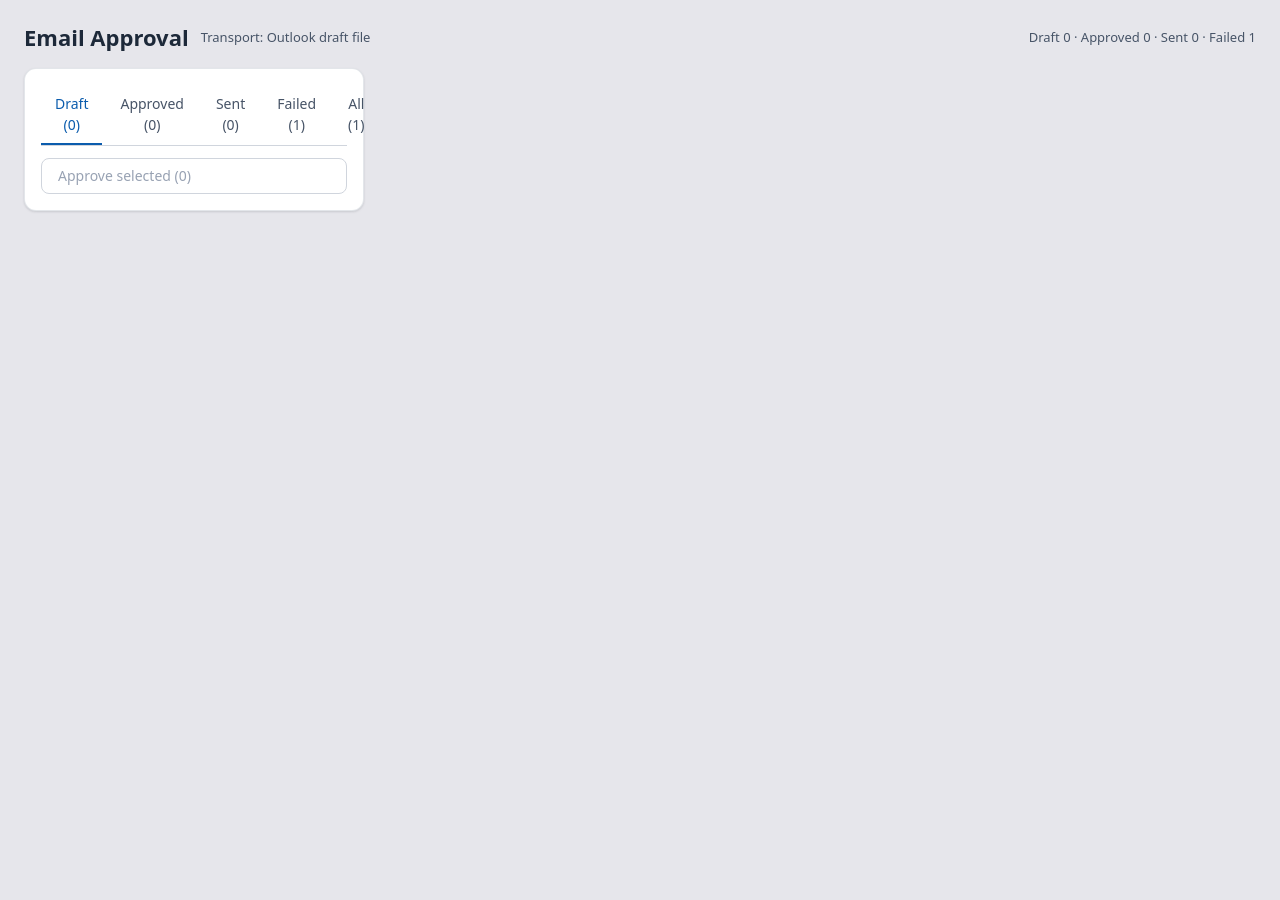
Test case: EmailApprovalPage transport handoff › confirms an uncertain previous COM send before opening a new draft
The width and height of the screenshot is (1280, 900).
Later steps or results of the test are not shown.
Click the tab "Failed (1)".
click(297, 114)  # box [263,84,330,144]
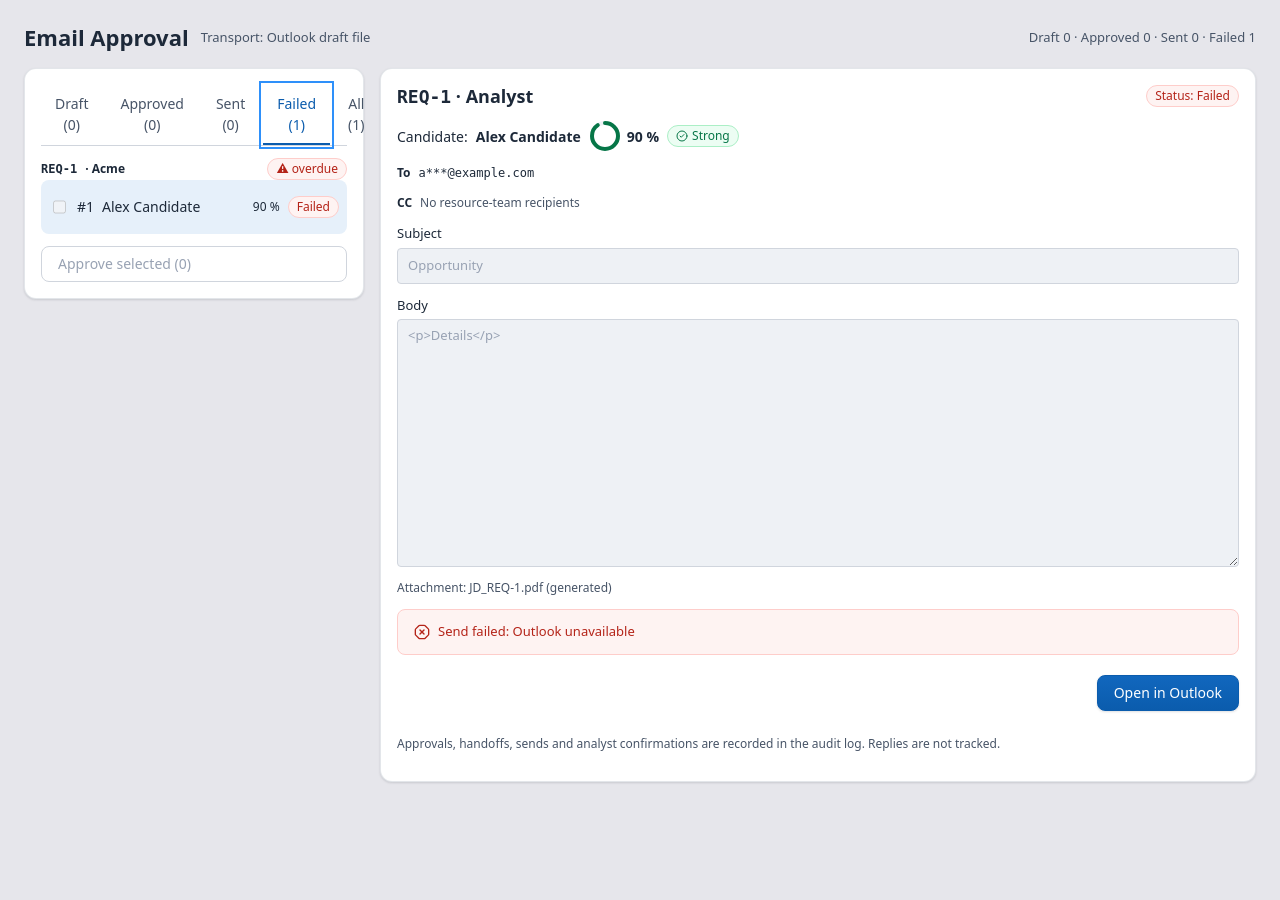
Click the button "Open in Outlook".
click(1168, 692)  # box [1097,674,1239,710]
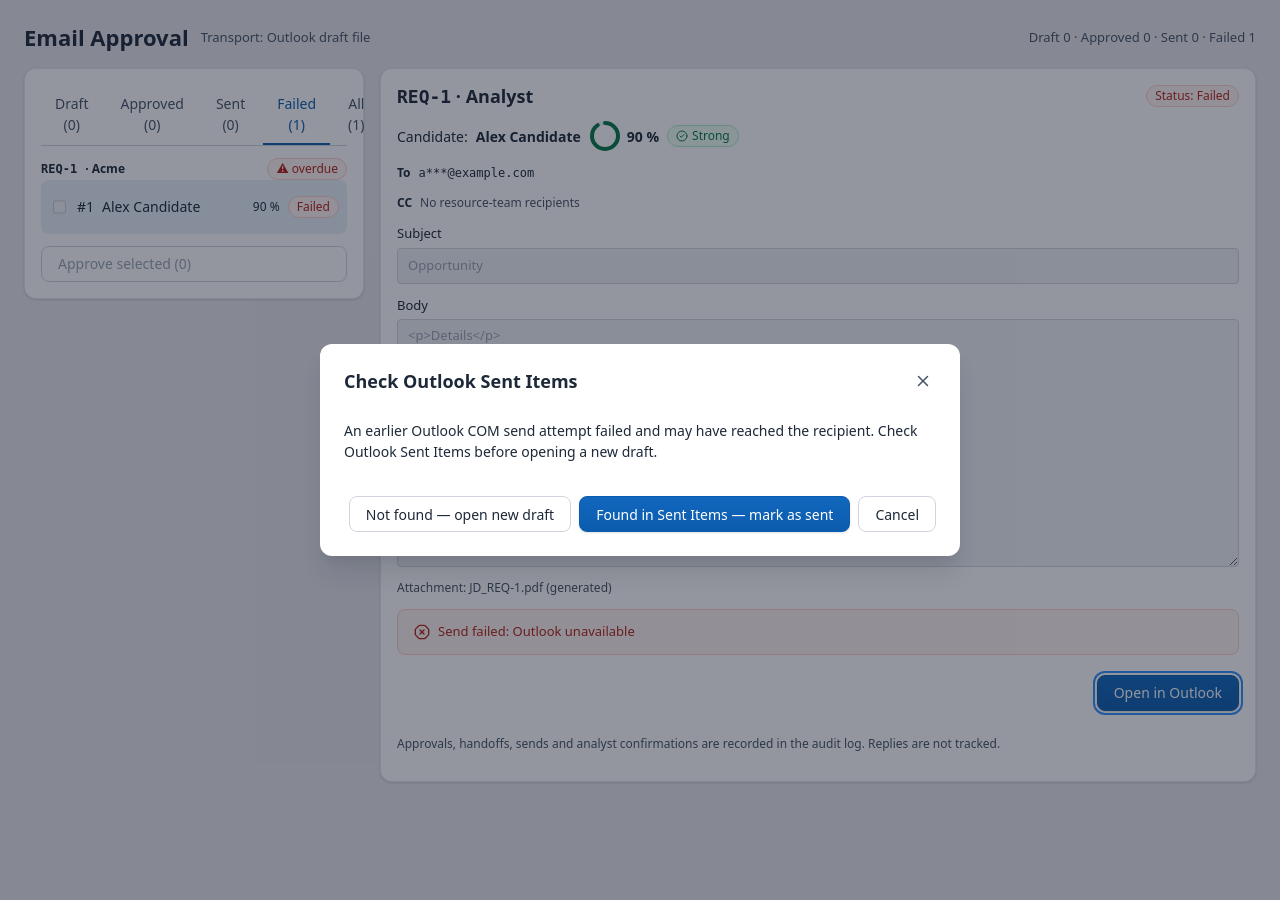
Check: the text "An earlier Outlook COM send attempt failed and may have reached the recipient. Check Outlook Sent Items before opening a" is shown, box [344,421,918,461]
